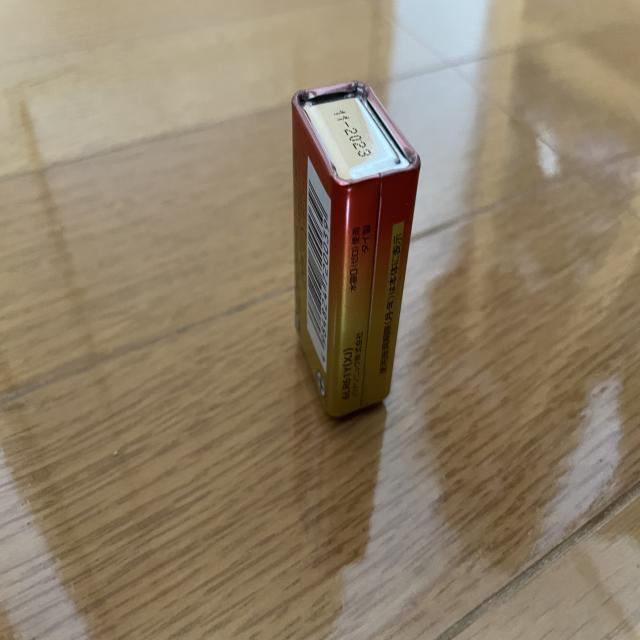9V: (291, 77, 420, 422)
